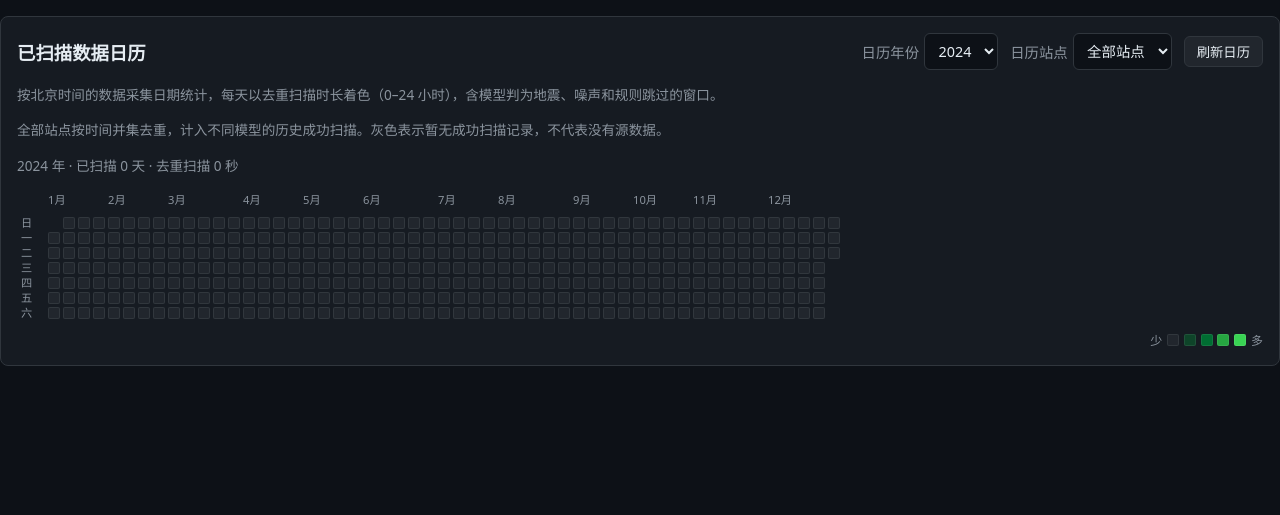
it: clears a selected old-year detail if refreshing the default latest year returns a newer year
Click the button named "2024-01-01". click: x=54, y=238
box: [48,232,60,244]
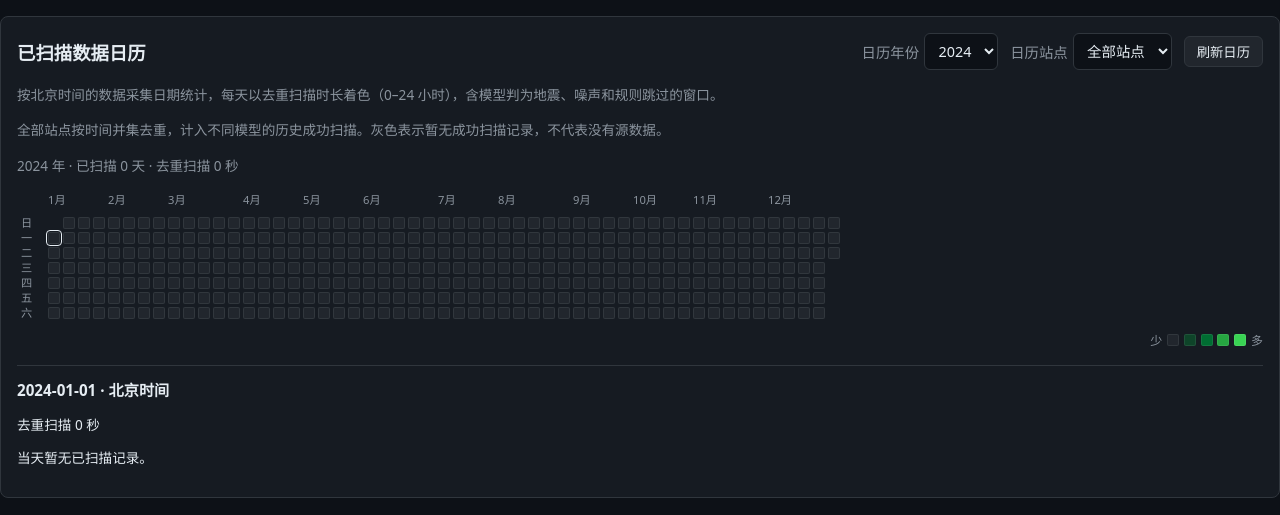
Result: the text "当天暂无已扫描记录。" is shown at [17,448,153,467]
Click the button "刷新日历". click: x=1223, y=52
box: [1184,36,1263,67]
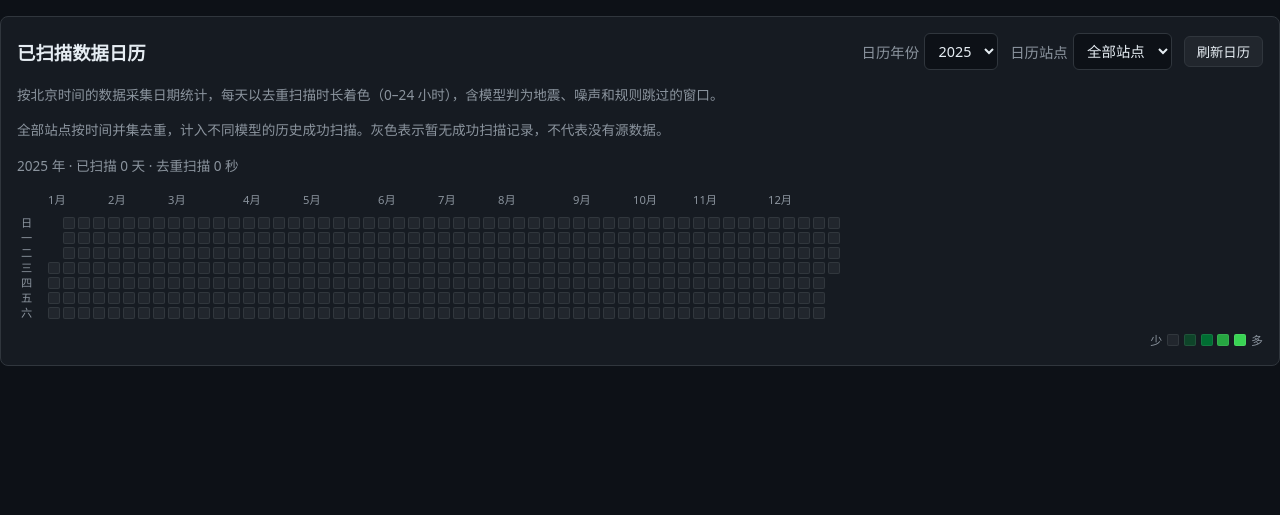
Expected: the button named "2025-01-01" is shown, [48,262,60,274]
Result: the dropdown labelled "日历年份" shows "2025" at [924,33,998,70]
